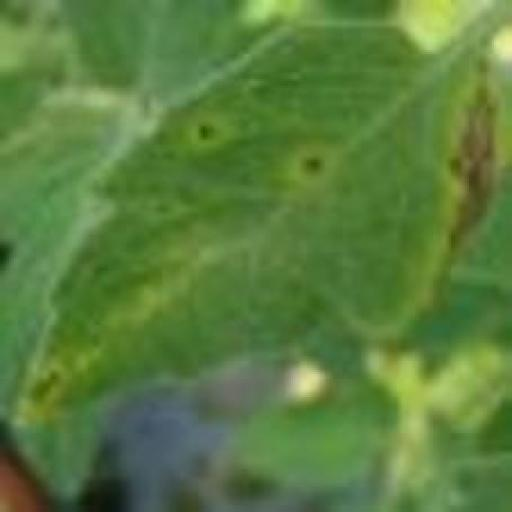Bacterial Spot: (14, 18, 502, 434)
